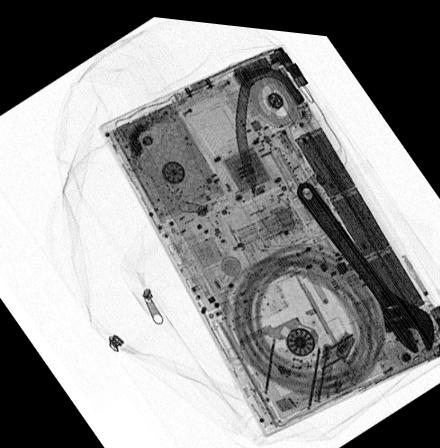Wrench: (295, 172, 433, 344)
